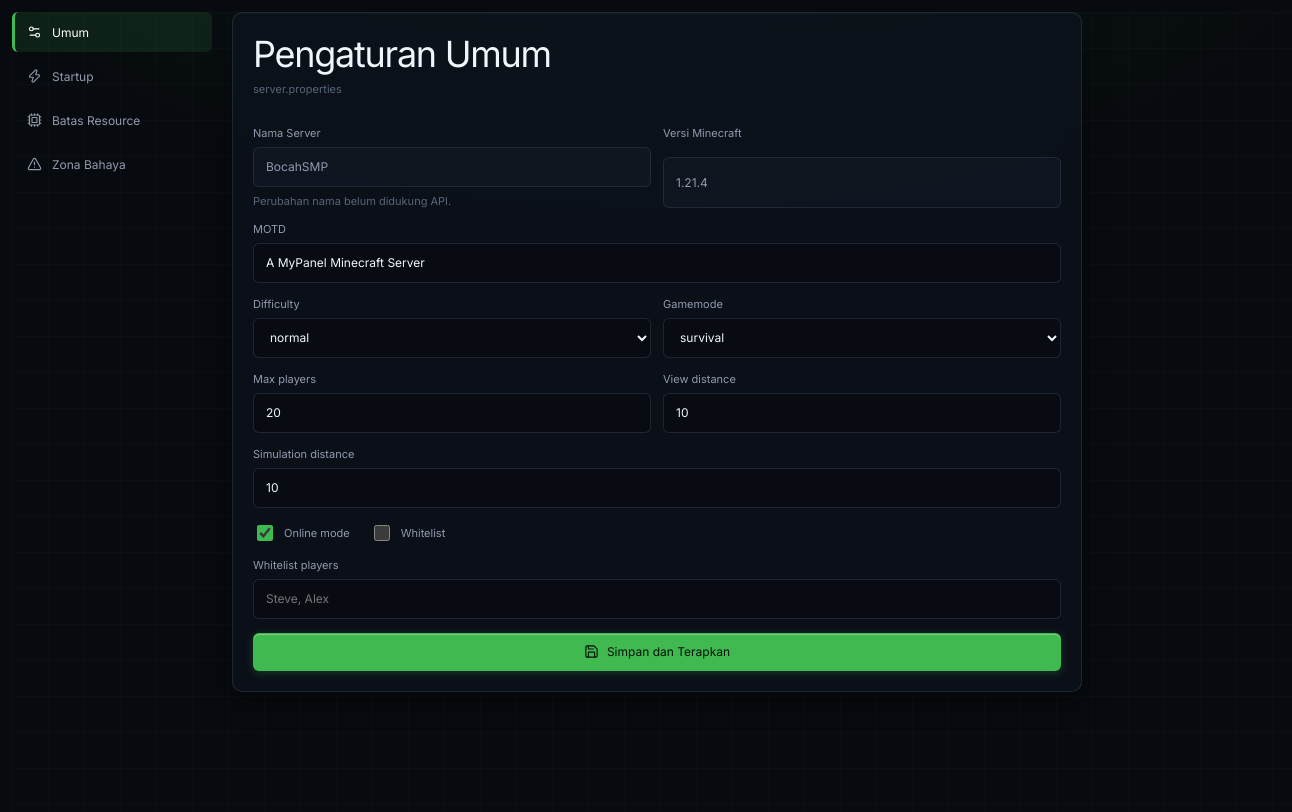
Test case: ServerSettings danger zone › exposes controlled startup options without an arbitrary shell field
Click the button "Startup" at (112, 76), box [12, 56, 212, 96]
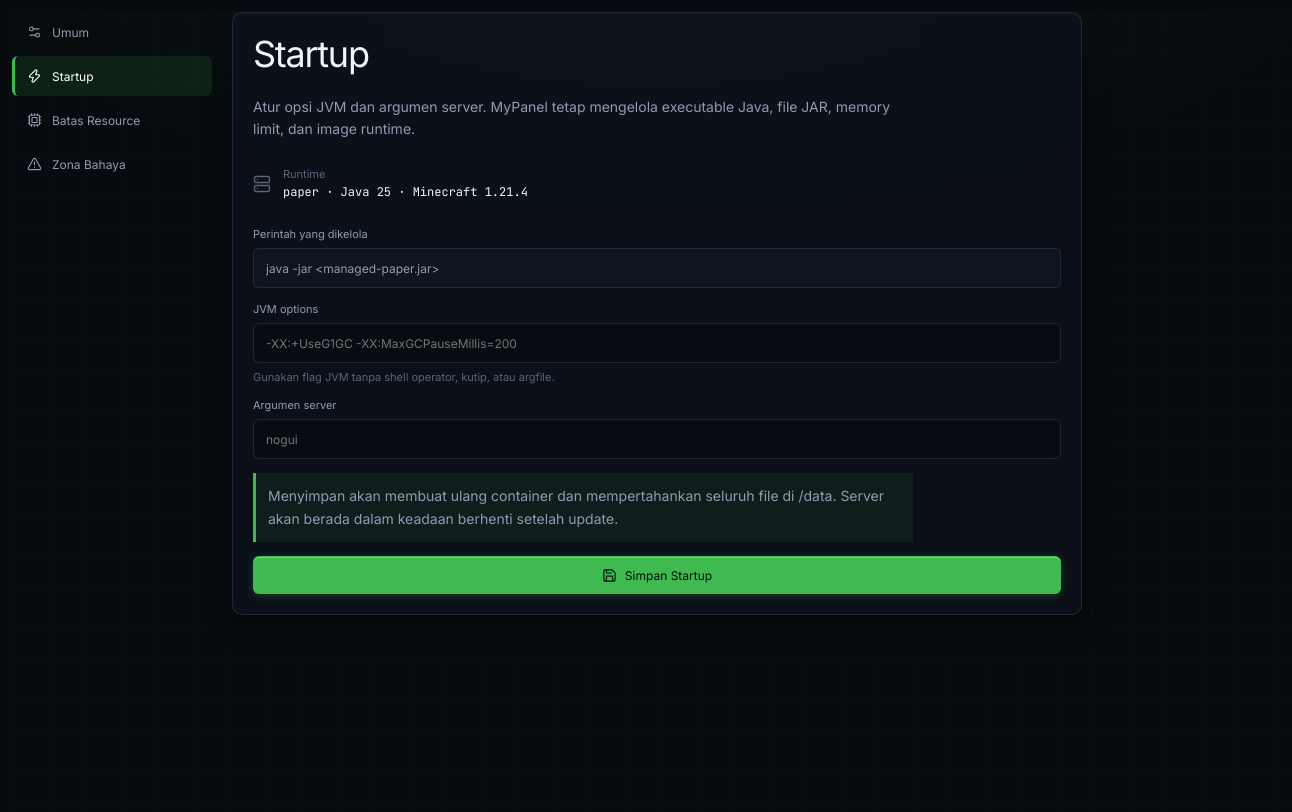
Expected: the field labelled "JVM options" is shown, [253, 323, 1061, 363]
Expected: the field labelled "Argumen server" is shown, [253, 419, 1061, 459]
